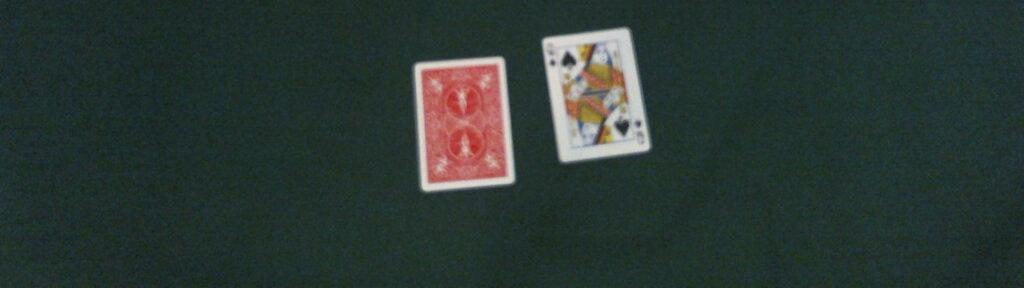back: (410, 55, 517, 193)
queen: (541, 27, 650, 163)
